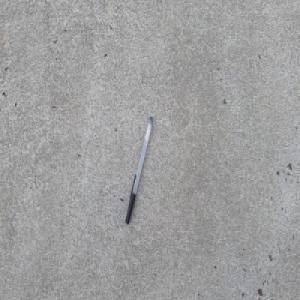Pen: (124, 116, 154, 227)
